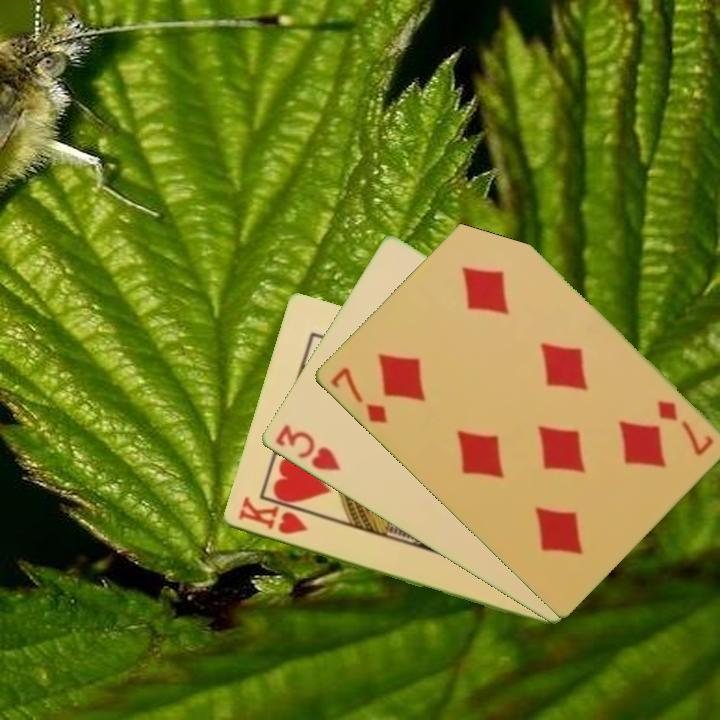3h: (271, 421, 343, 475)
7d: (326, 364, 390, 427), (653, 396, 716, 459)
Kh: (234, 494, 310, 538)
